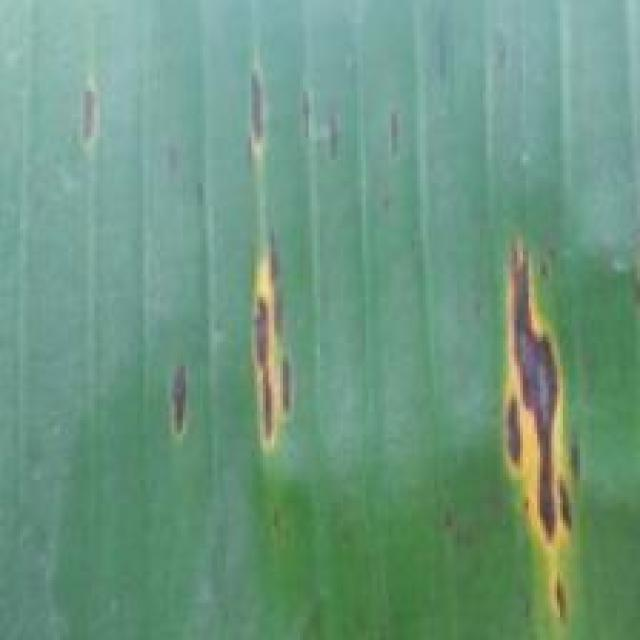Early_leaf_spot: (458, 190, 607, 634), (231, 235, 302, 470), (283, 78, 407, 170), (419, 8, 526, 88), (146, 358, 200, 456), (238, 56, 281, 167), (75, 50, 108, 149)
